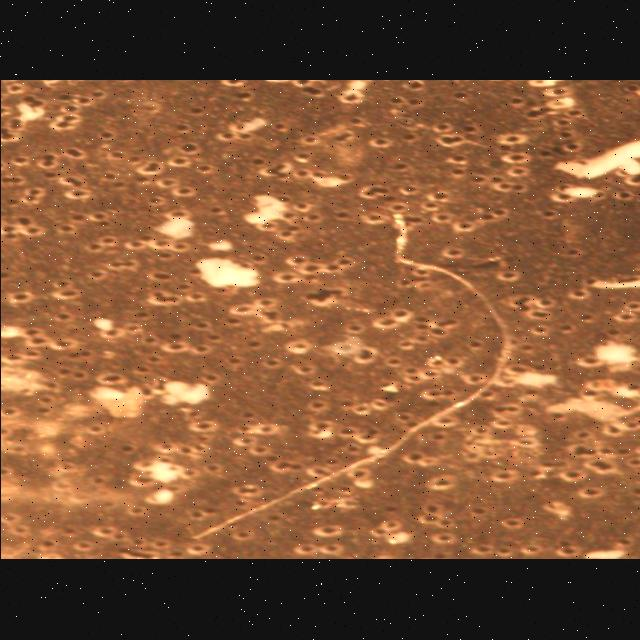Fibre: (182, 205, 524, 542)
